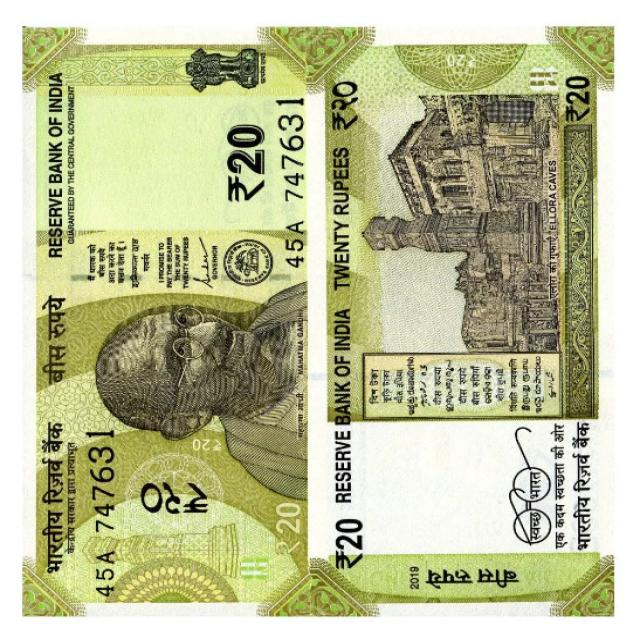20IndianRupees: (309, 26, 618, 618)
